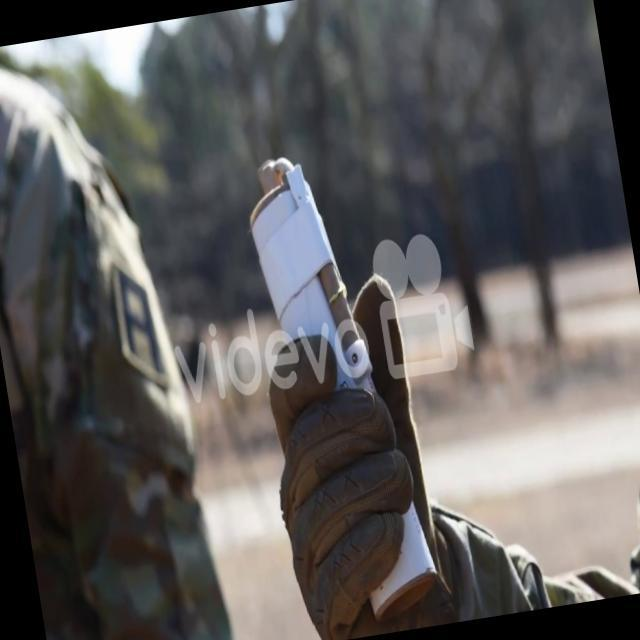grenade: (234, 133, 446, 634)
